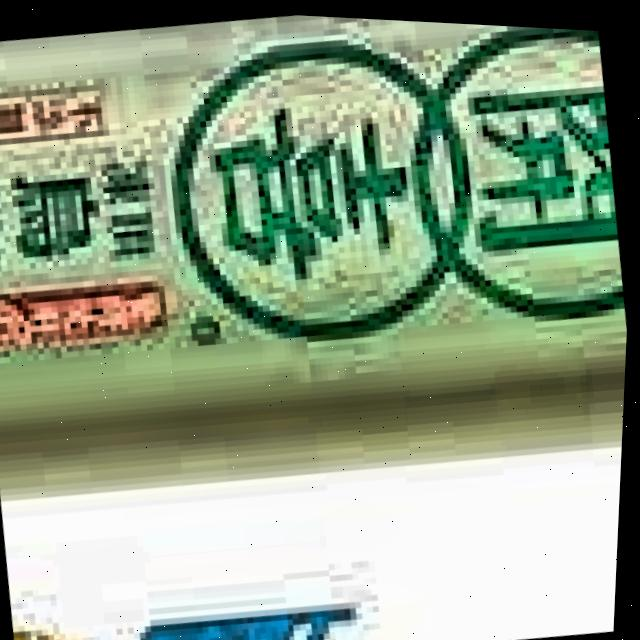metal: (0, 0, 640, 549)
